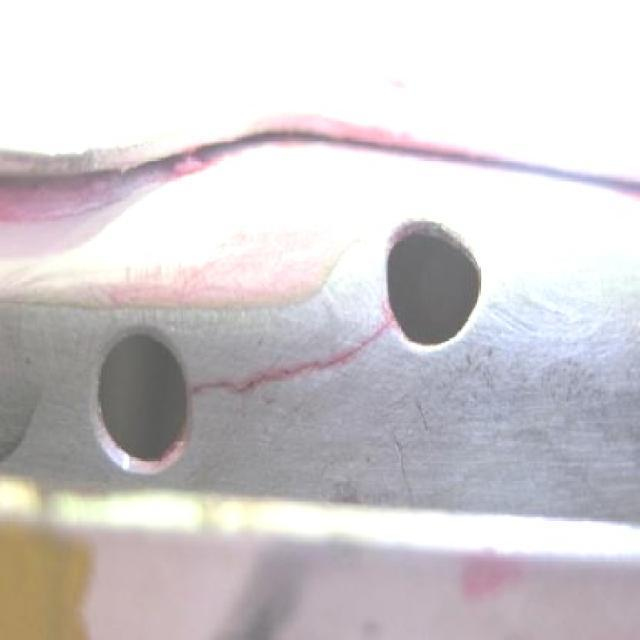crack: (309, 350, 364, 372), (364, 320, 400, 351), (238, 371, 309, 386), (191, 380, 237, 394)
